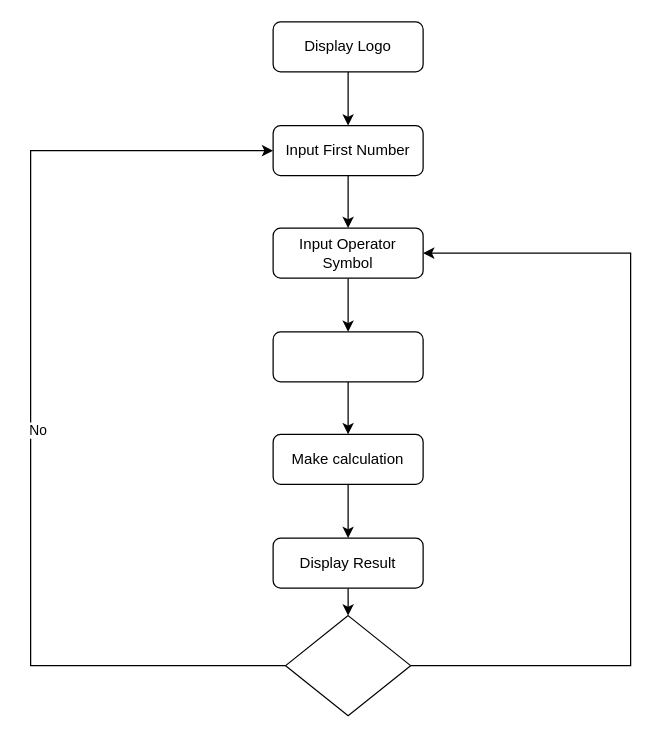
This 663x738 diagram has some shape labels left out. Here are the shapes that lost their labels. From the top down, the box of each, then its label:
(272, 331, 423, 382): Input Second Number
(284, 614, 411, 716): Continue with the Calculated Value
